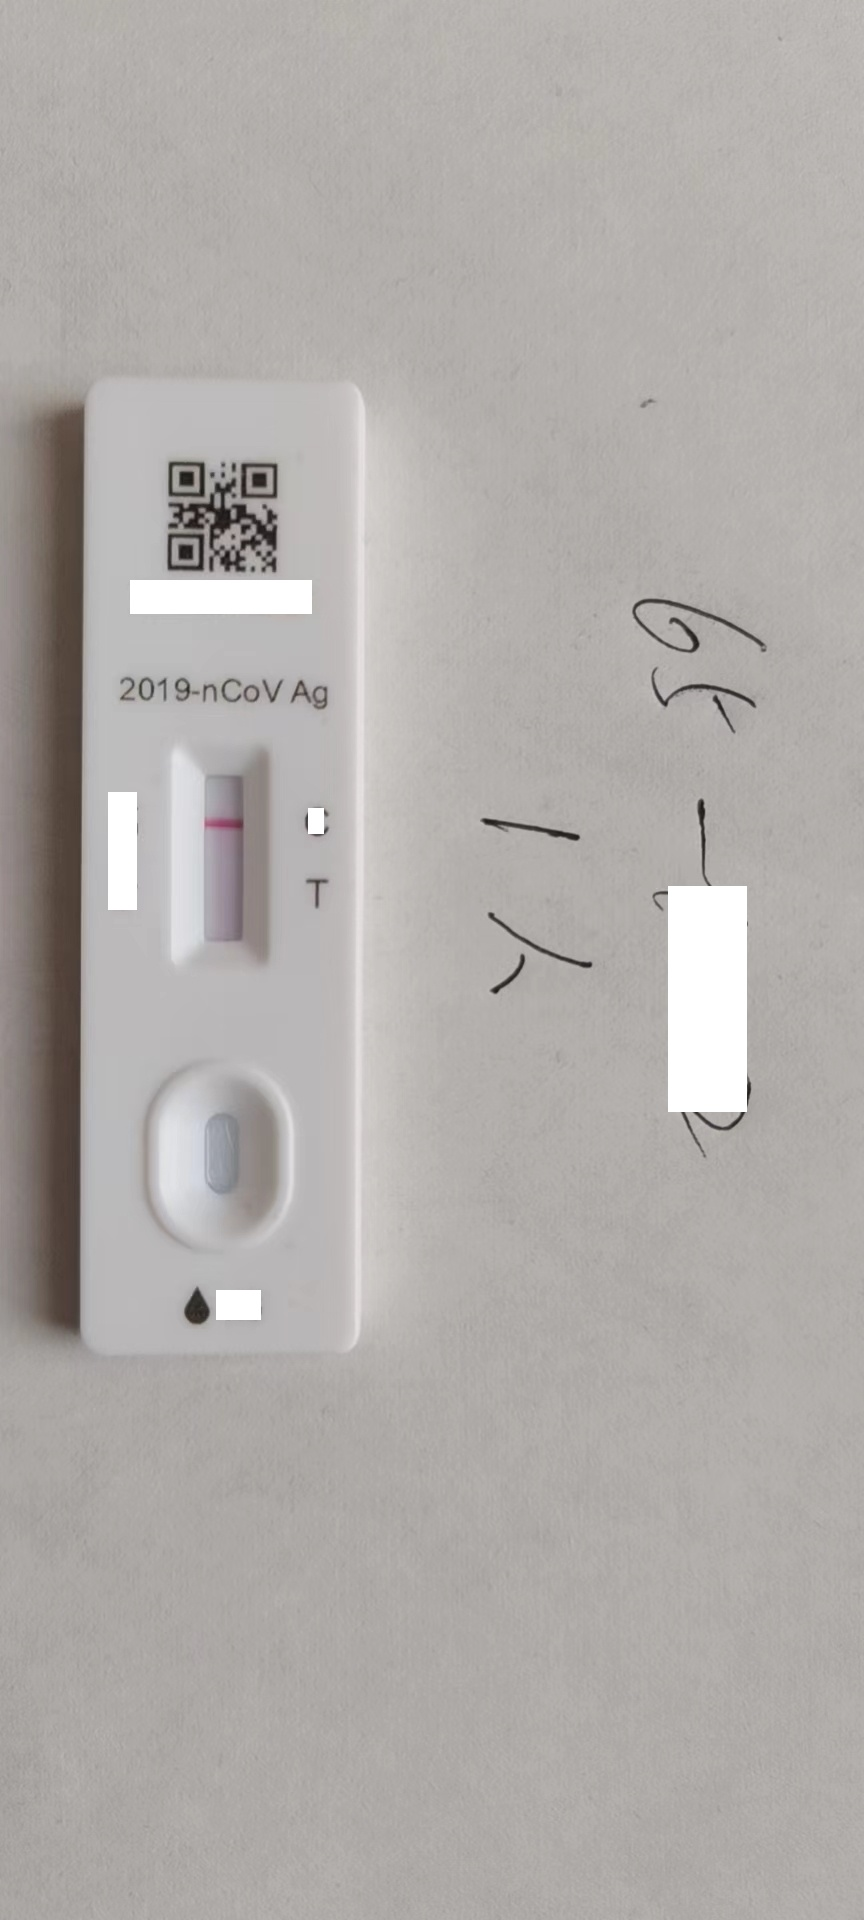negative: (180, 736, 270, 971)
